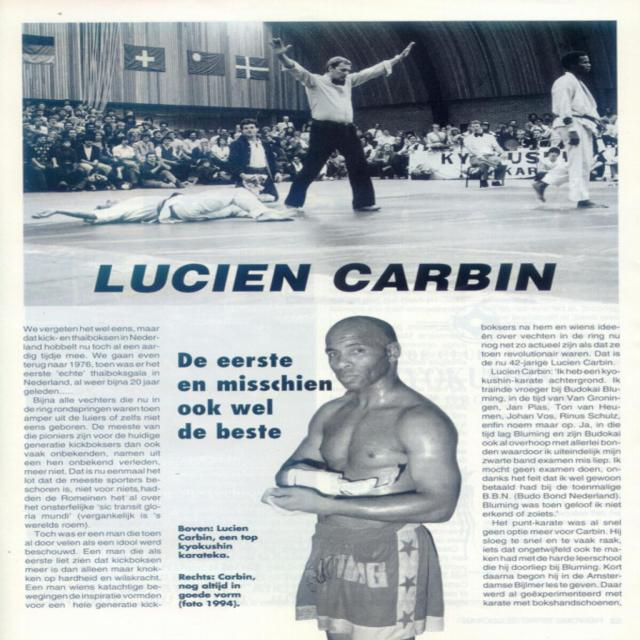nomask: (324, 323, 388, 390), (332, 62, 350, 82), (575, 55, 590, 73), (242, 124, 255, 136)
